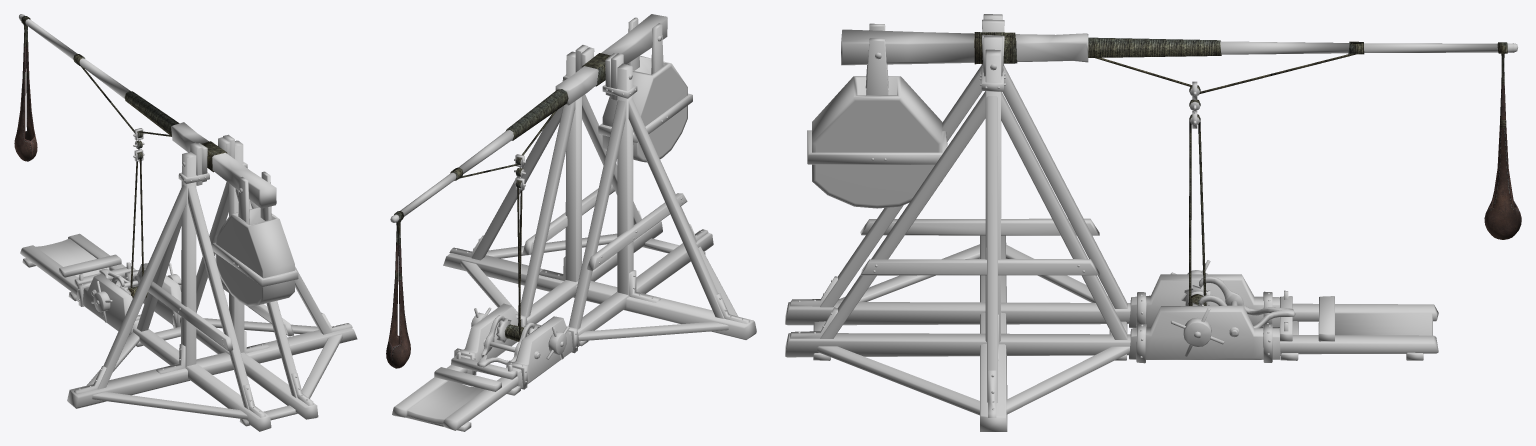
File: Trebushet.FBX
The picture shows the model from 3 angles, left to right: view 1: azimuth 30°, elevation 25°; view 2: azimuth 150°, elevation 25°; view 3: azimuth 270°, elevation 25°; orthographic projection. The views are drawn at different scales.
Visible parts, largest first — view 1: Medieval_Trebushet; view 2: Medieval_Trebushet; view 3: Medieval_Trebushet.
Part boxes in pixels (x1,y1,x2,y2): Medieval_Trebushet: (14,14,357,431); Medieval_Trebushet: (386,14,756,431); Medieval_Trebushet: (785,14,1521,431).
Size of the model in its own units: 1103 by 865 by 1834.
